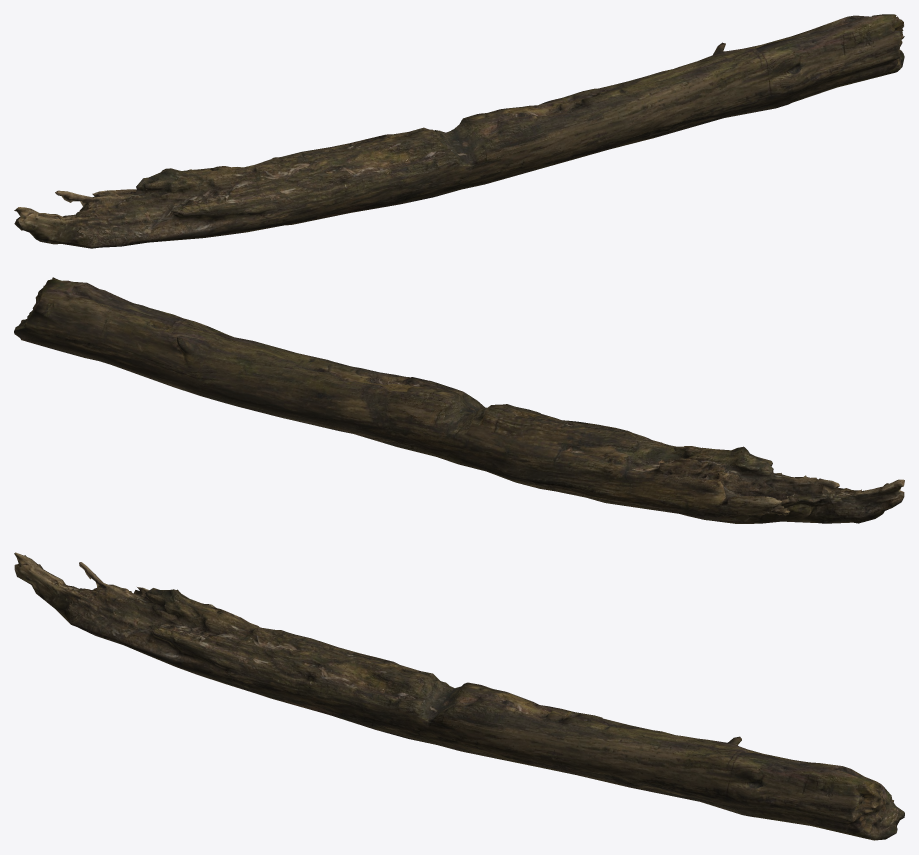
File: dead_tree_trunk_rt.gltf
3 renders of one model, top to bottom at view 1: azimuth 30°, elevation 25°; view 2: azimuth 150°, elevation 25°; view 3: azimuth 330°, elevation 25°, orthographic.
Parts seen in each view (by area): view 1: dead_tree_trunk; view 2: dead_tree_trunk; view 3: dead_tree_trunk.
Part boxes in pixels (<box>): dead_tree_trunk: <box>14,14,904,248</box>; dead_tree_trunk: <box>14,277,904,523</box>; dead_tree_trunk: <box>14,552,904,840</box>.
Bounding box in the file's own units: 3.05 × 0.2904 × 0.2773.
1 material, 1 textured.
